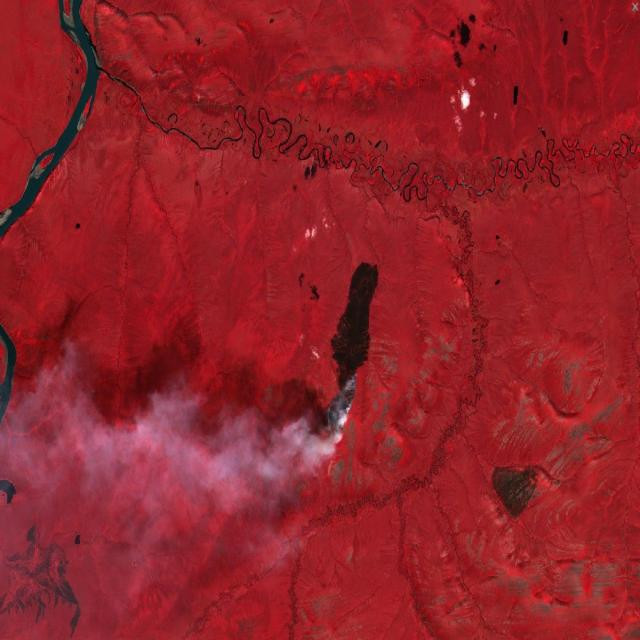fire: (317, 375, 363, 437)
